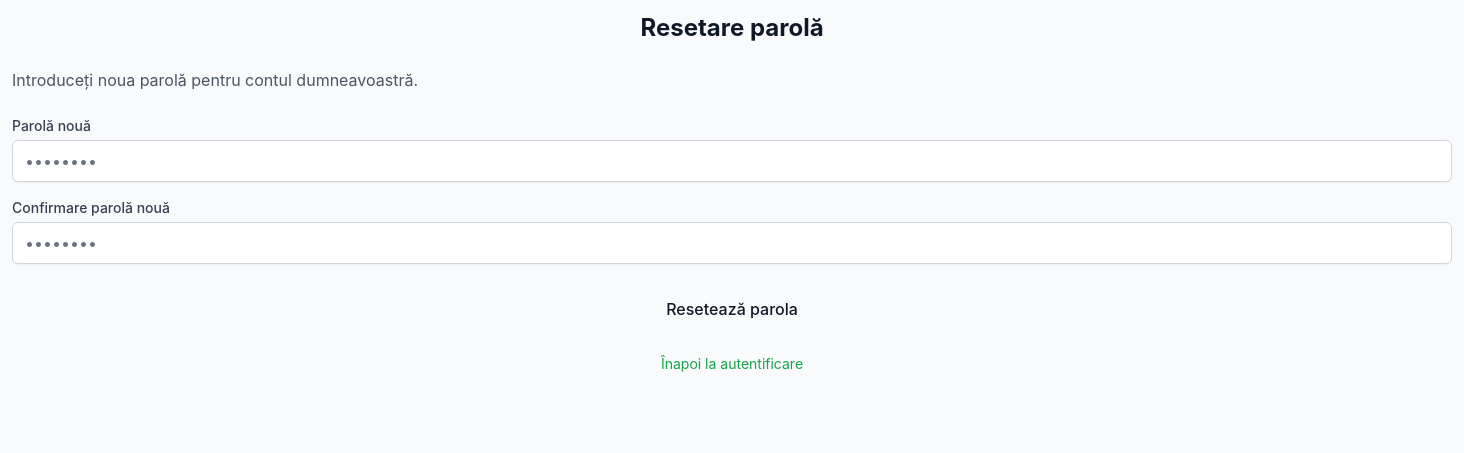
Scenario: ResetPasswordPage › shows validation errors when submitting invalid data
Expected: the heading "Resetare parolă" is shown, [640,13,824,42]
Note: Submit form without filling in fields
Submit the form, box [12,116,1452,330]
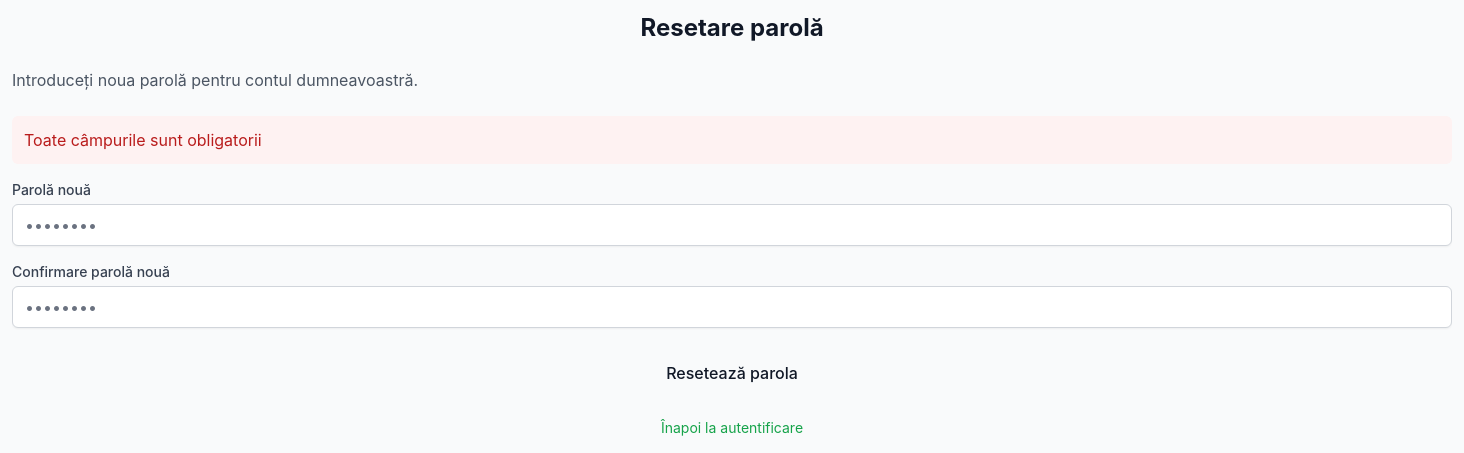
Now the text "Toate câmpurile sunt obligatorii" is shown, box [12,116,1452,164]
Note: Fill in password fields with different values
Type "Password123!" into the password field labelled "Parolă nouă". click: x=732, y=225
box: [12,204,1452,246]
Type "DifferentPassword123!" into the password field labelled "Confirmare parolă nouă". click: x=732, y=307
box: [12,286,1452,328]
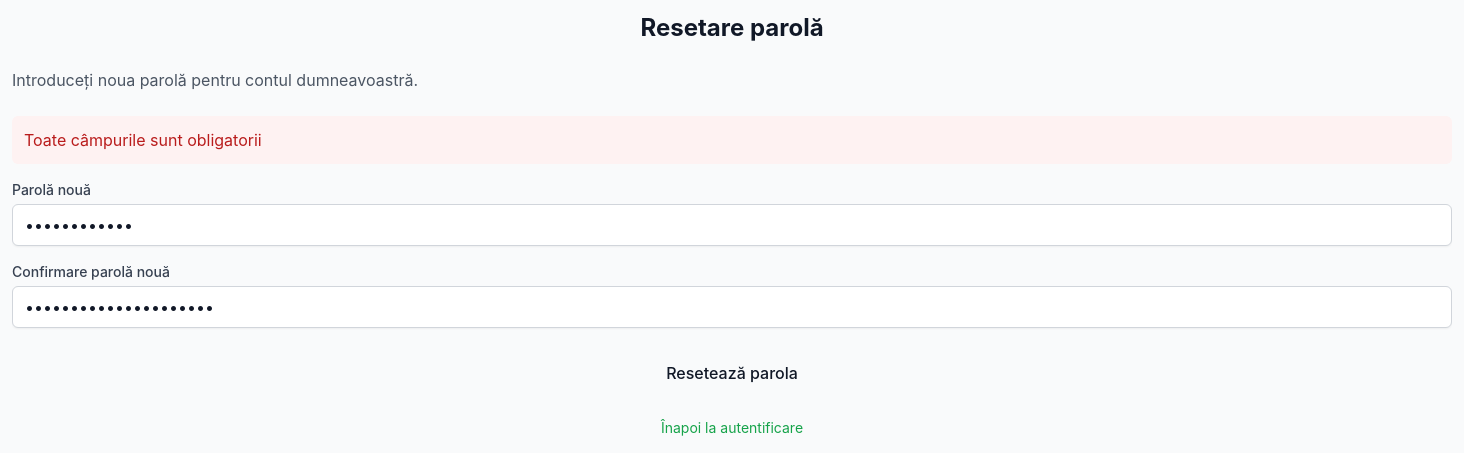
Note: Submit form
Submit the form, box [12,180,1452,394]
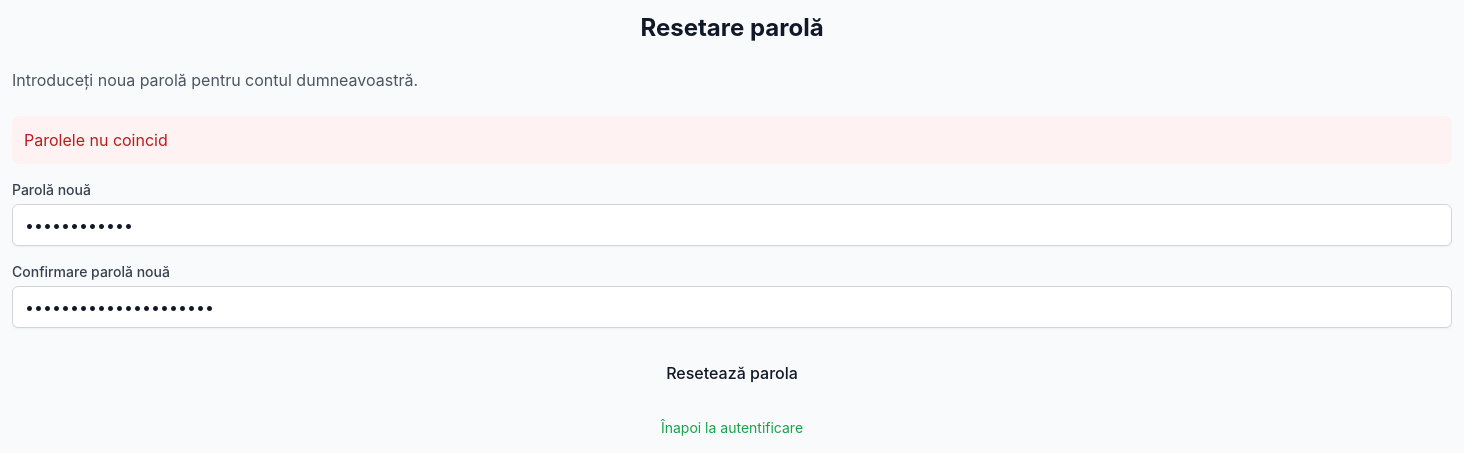
Now the text "Parolele nu coincid" is shown, box [12,116,1452,164]
Note: Fill in password fields with short password
Type "short" into the password field labelled "Parolă nouă". click: x=732, y=225
box: [12,204,1452,246]
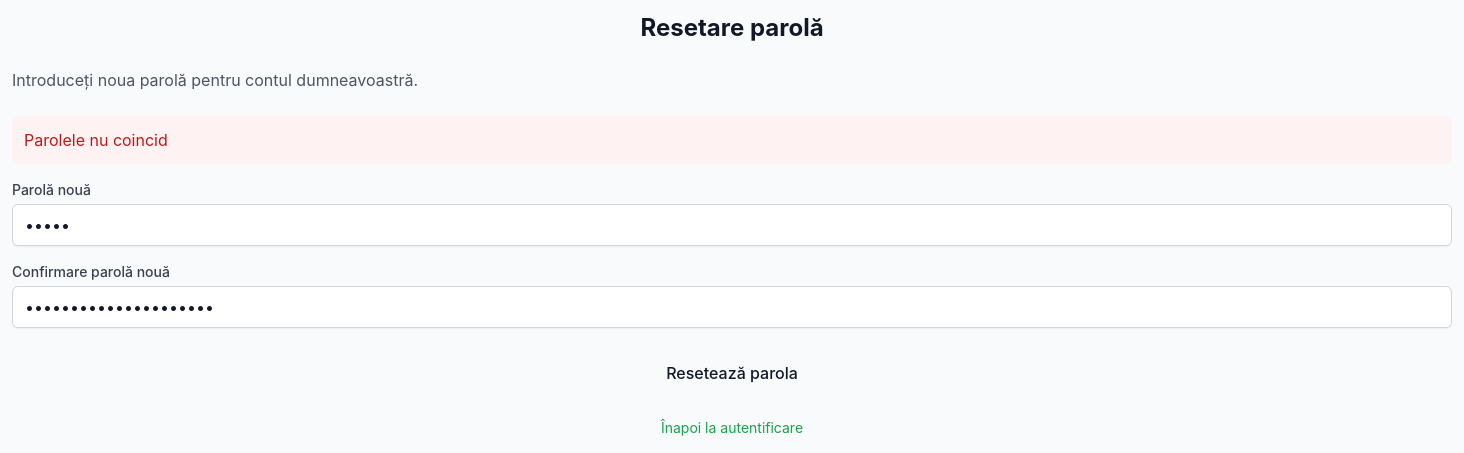
Type "short" into the password field labelled "Confirmare parolă nouă". click: x=732, y=307
box: [12,286,1452,328]
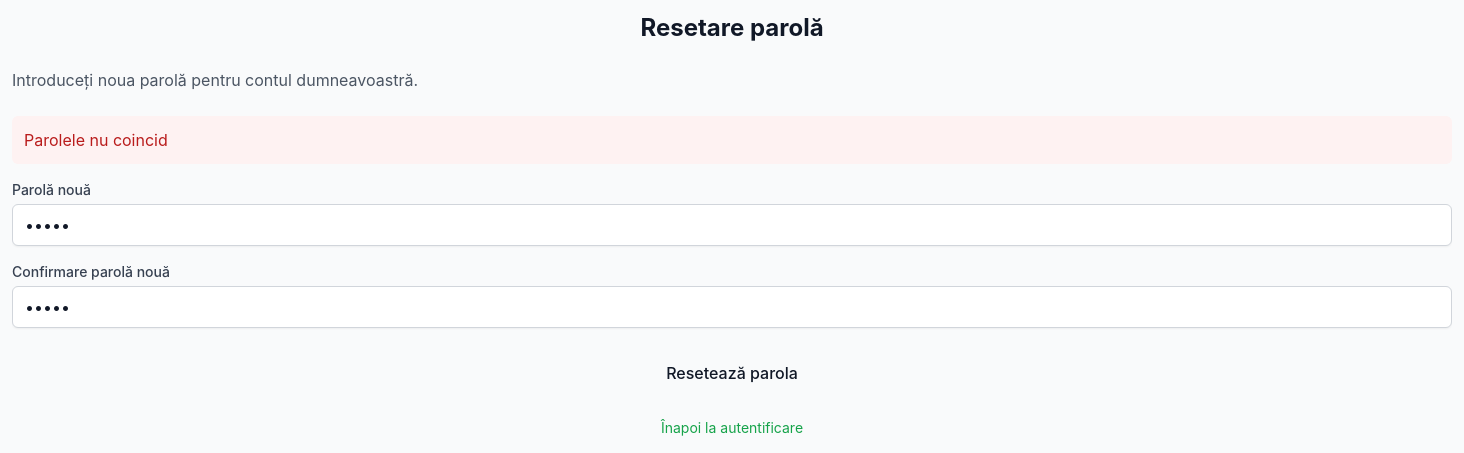
Note: Submit form
Submit the form, box [12,180,1452,394]
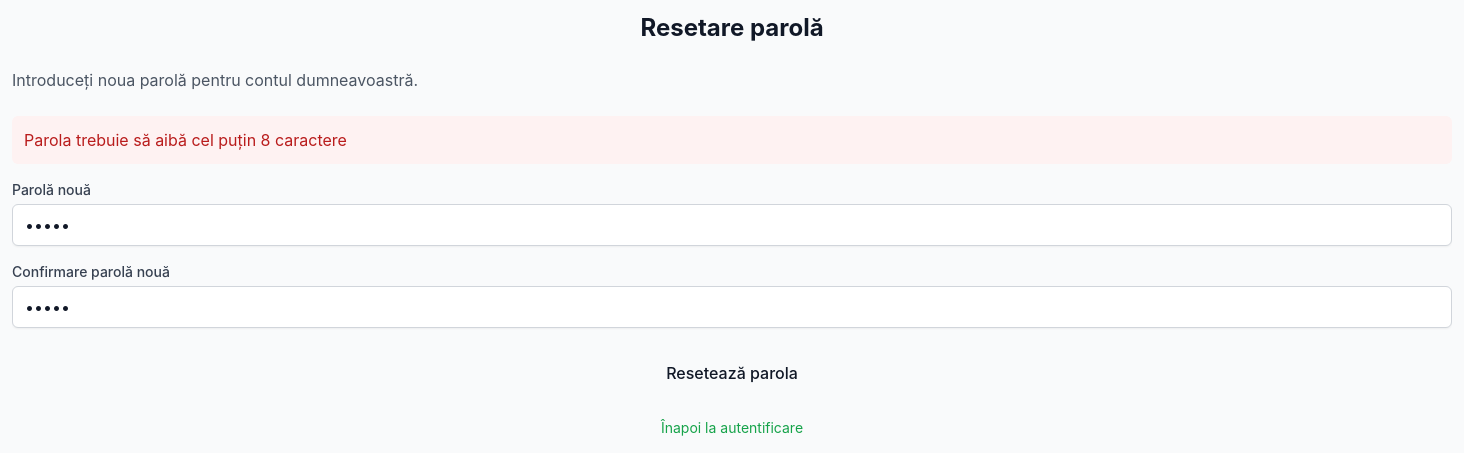
Now the text "Parola trebuie să aibă cel puțin 8 caractere" is shown, box [12,116,1452,164]
